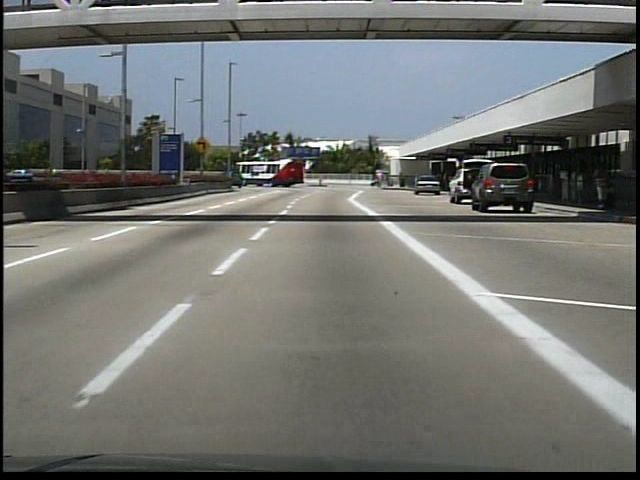person: (588, 164, 610, 212)
